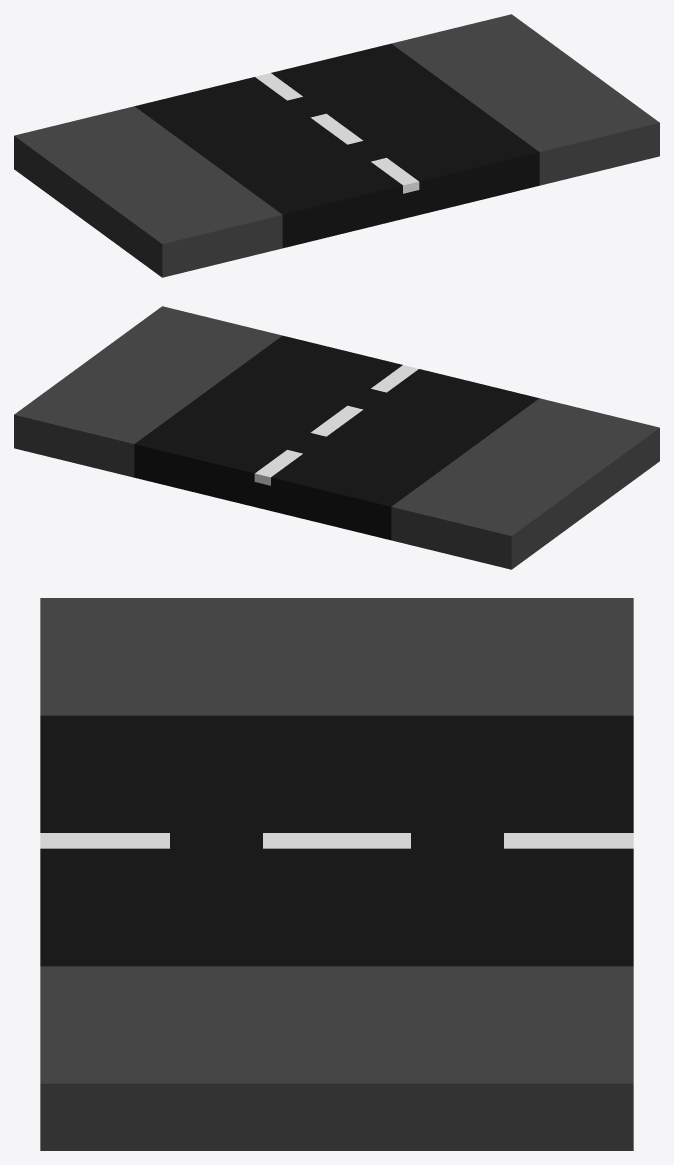
File: road1.fbx
3 views of the same model, one above another, from view 1: azimuth 30°, elevation 25°; view 2: azimuth 150°, elevation 25°; view 3: azimuth 270°, elevation 25° (orthographic). The views are drawn at different scales.
Parts seen in each view (by area): view 1: road1-2, road1-1, road1-0; view 2: road1-2, road1-1, road1-0; view 3: road1-2, road1-0, road1-1.
Boxes of the visible parts, box(x1,y1,x2,y2) form: road1-2: box(134, 43, 539, 248); road1-1: box(14, 106, 282, 277); road1-0: box(391, 14, 659, 185); road1-2: box(134, 335, 539, 540); road1-1: box(391, 398, 659, 569); road1-0: box(14, 306, 282, 477); road1-2: box(40, 715, 633, 966); road1-0: box(40, 966, 633, 1150); road1-1: box(40, 598, 633, 715).
Bounding box in the file's own units: 620 × 40 × 320.
